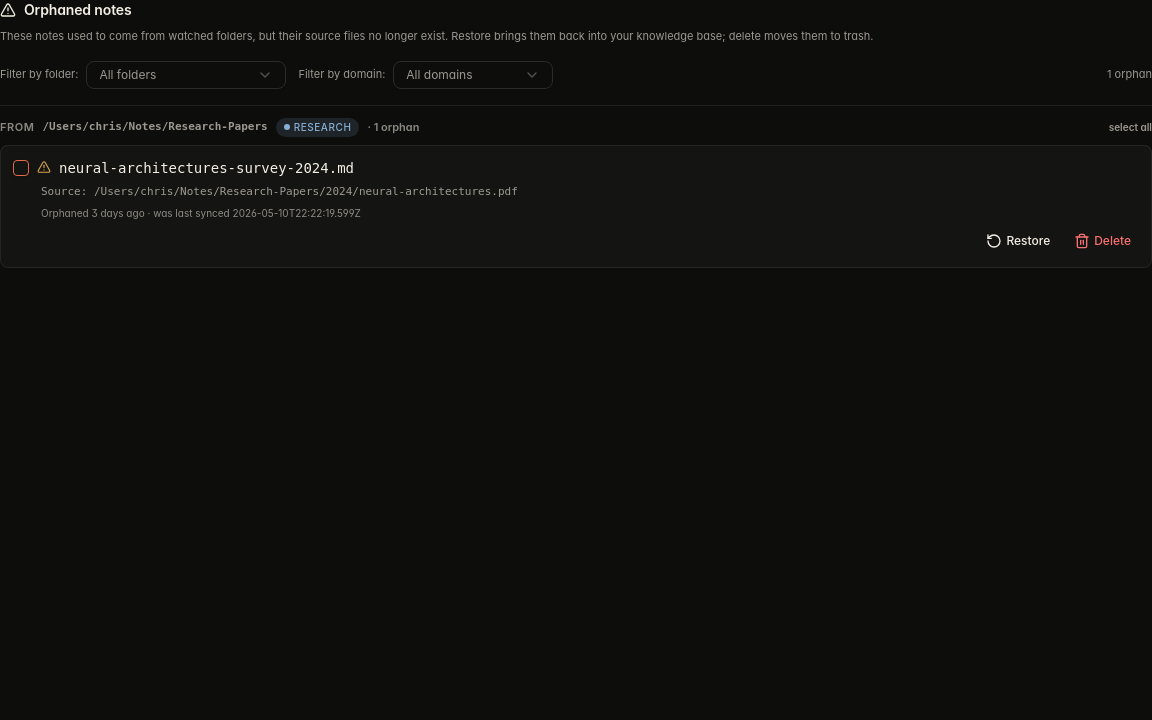
Test: PanelOrphans — single-row delete › clicking Delete opens TypedConfirmDialog with the note's slug as the word
This screenshot has width=1152, height=720.
expect the list item with test id "orphan-row" is shown: met, box [0,144,1151,268]
What coordinates should you click on to do the following:
click the button with test id "orphan-row-delete-/vault/r/neural-architectures-survey-2024.md"
I would click on:
 (1103, 241)
Its box is [1066,227,1139,255].
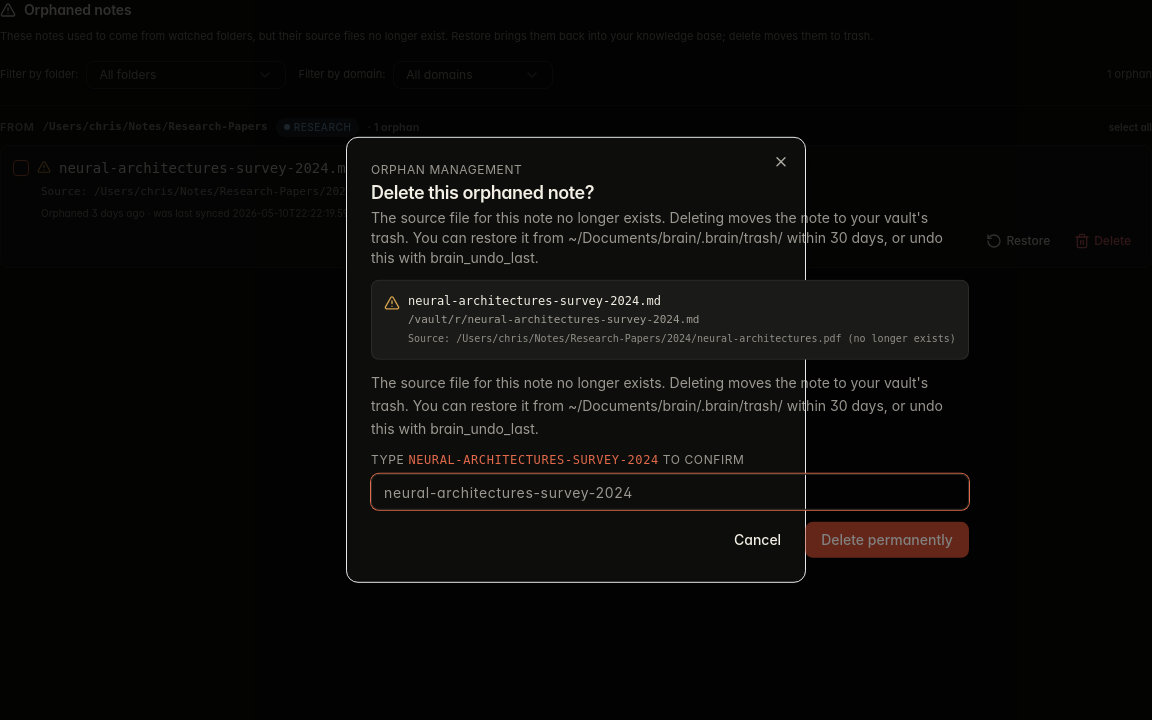
expect the text "ORPHAN MANAGEMENT" is shown: met, box [371,162,522,177]
expect the heading "Delete this orphaned note?" is shown: met, box [371,182,594,203]
